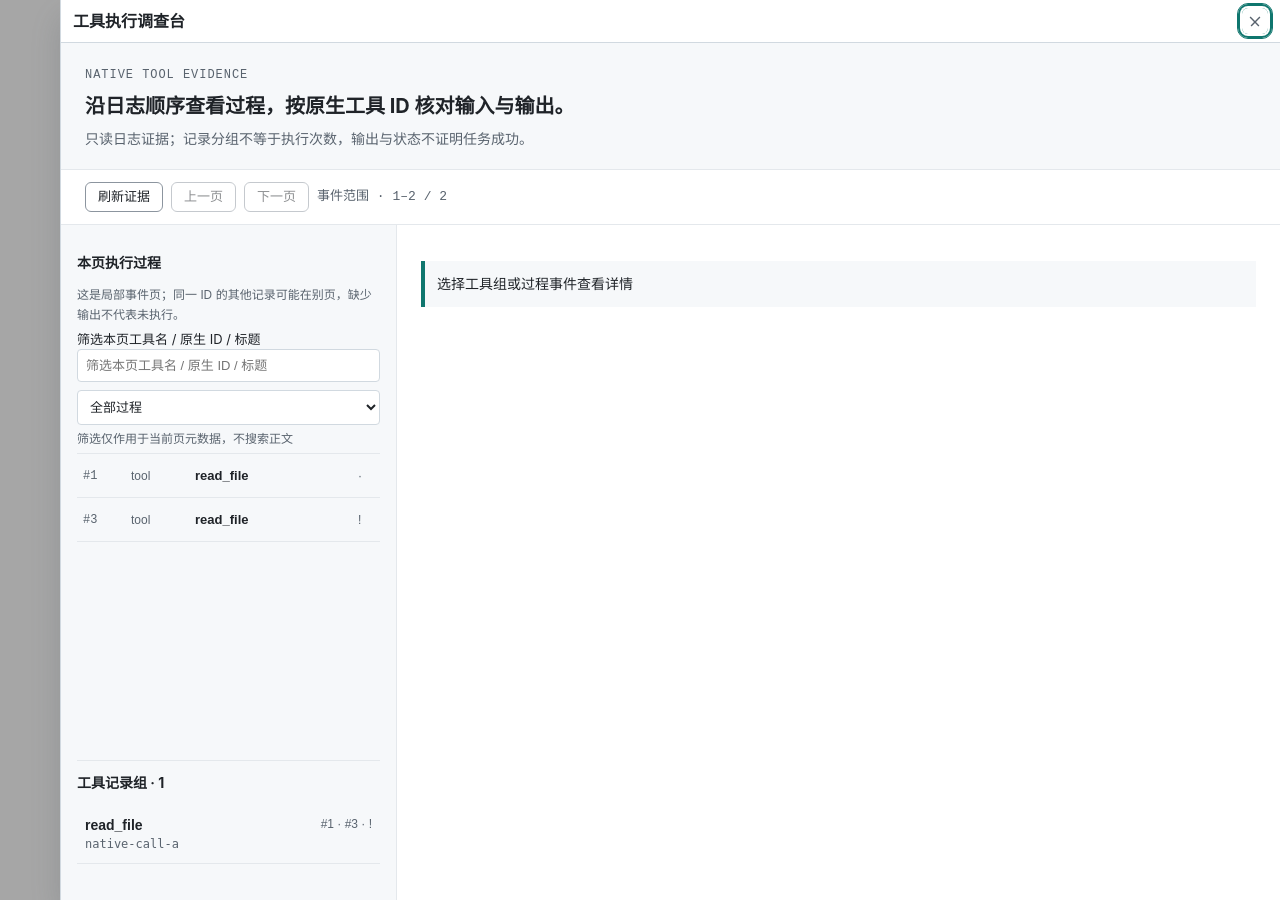
Test case: tool investigation drawer › reads one metadata page, groups exact tool evidence, and reads only the selected event body/raw explicitly
Click the button with class "tool-group": point(114, 825) [77,805,380,864]
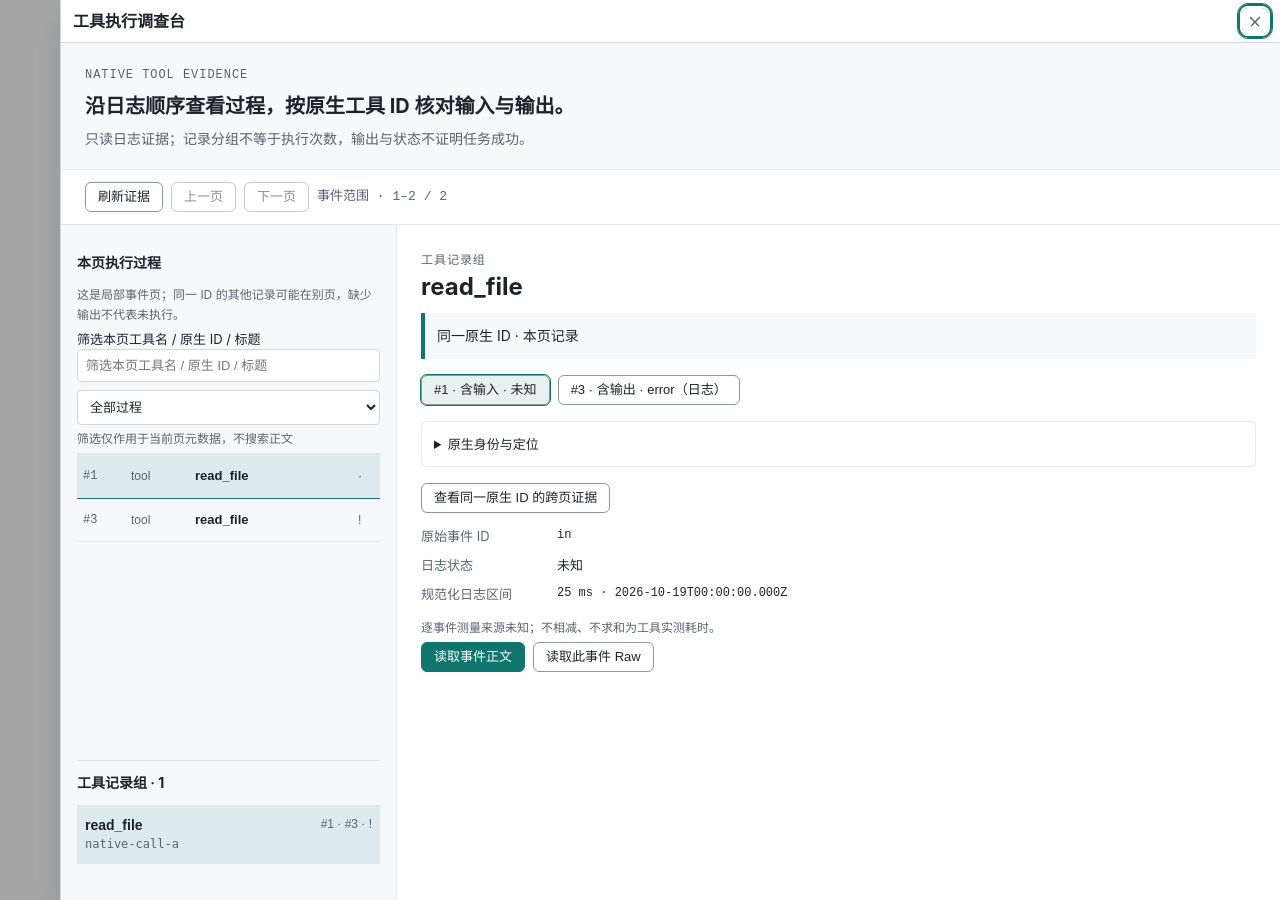
Expected: the text "同一原生 ID" is shown, [437,327,579,344]
Expected: the button "读取事件正文" is shown
Click the button "读取事件正文": point(473, 657) [421,642,525,672]
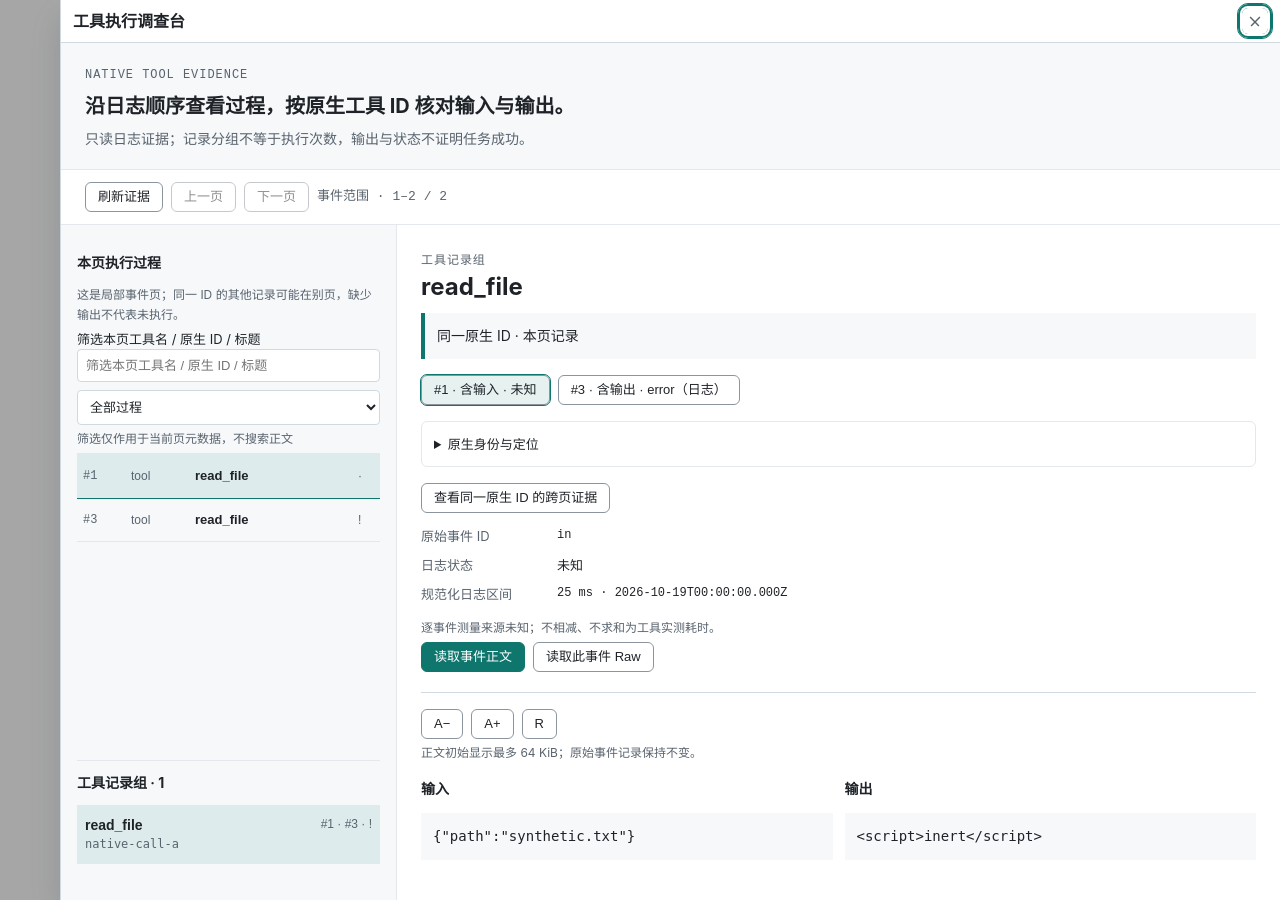
Expected: the text "synthetic.txt" is shown, [433,828,635,844]
Click the button "#3 · 含输出 · error（日志）": point(649, 390) [558,375,740,405]
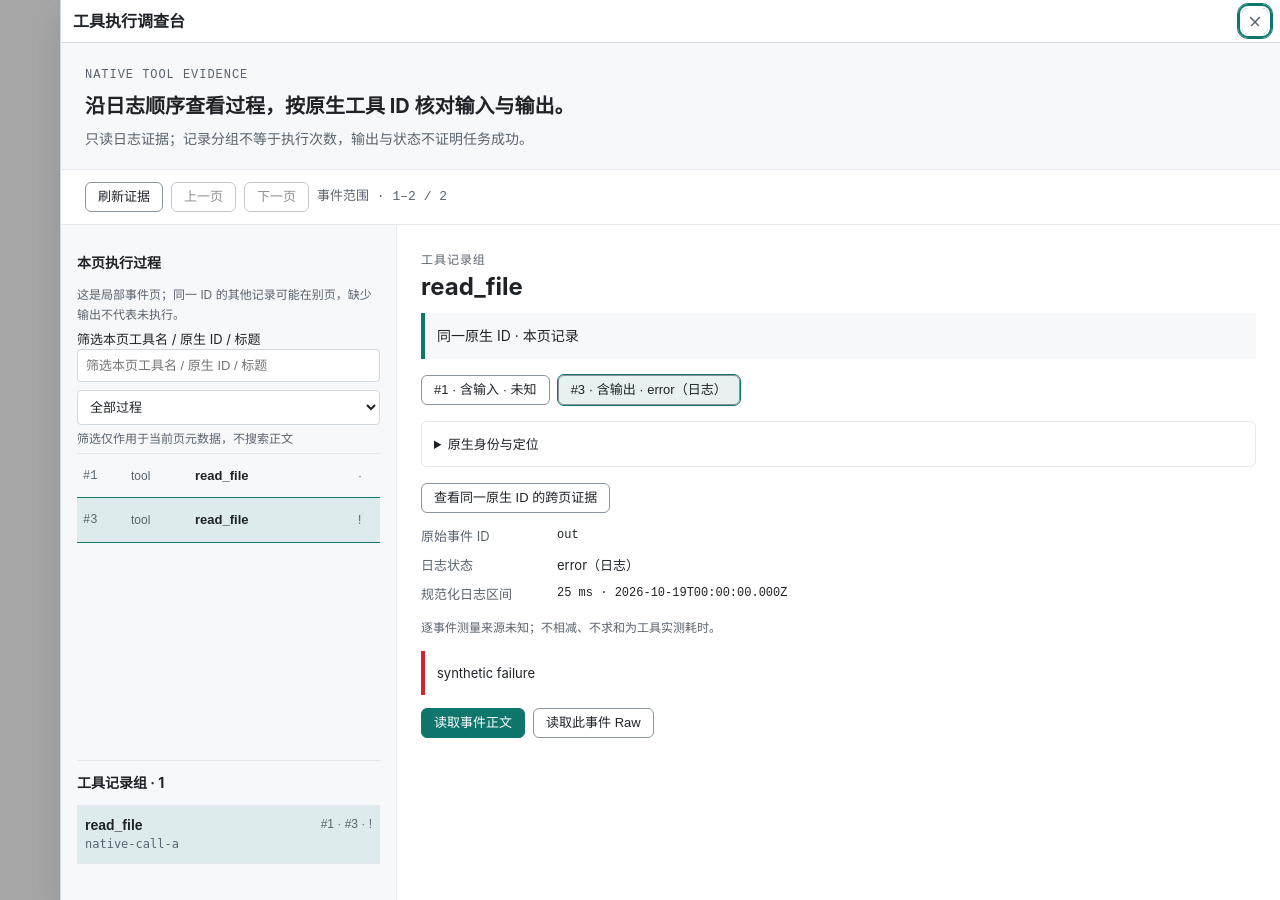
Expected: the button "读取此事件 Raw" is shown
Expected: the element with class "tool-body" is gone
Click the button "读取此事件 Raw": point(593, 723) [533,708,654,738]
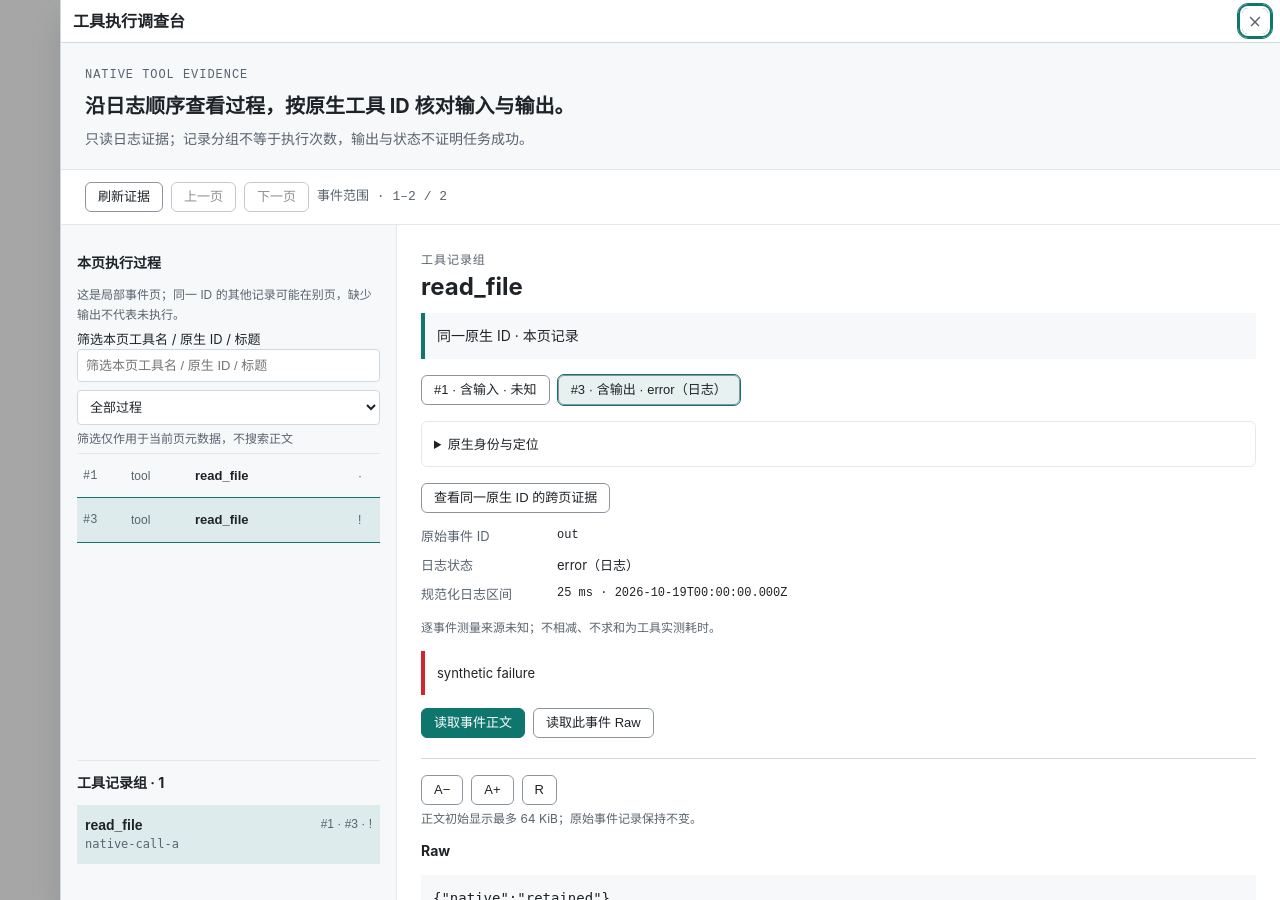
Expected: the text "\"native\":\"retained\"" is shown, [433,890,610,899]
